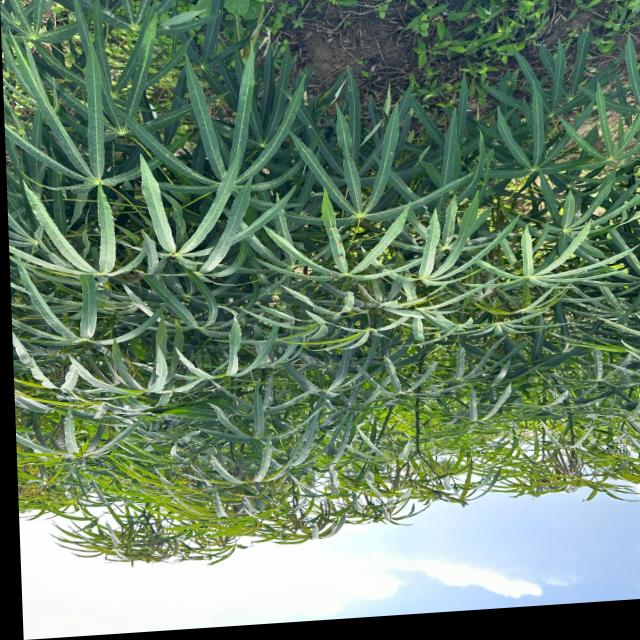Mosca: (388, 146, 398, 162), (445, 186, 457, 199), (338, 253, 348, 266), (482, 119, 493, 129), (335, 239, 346, 249), (325, 226, 338, 232)
